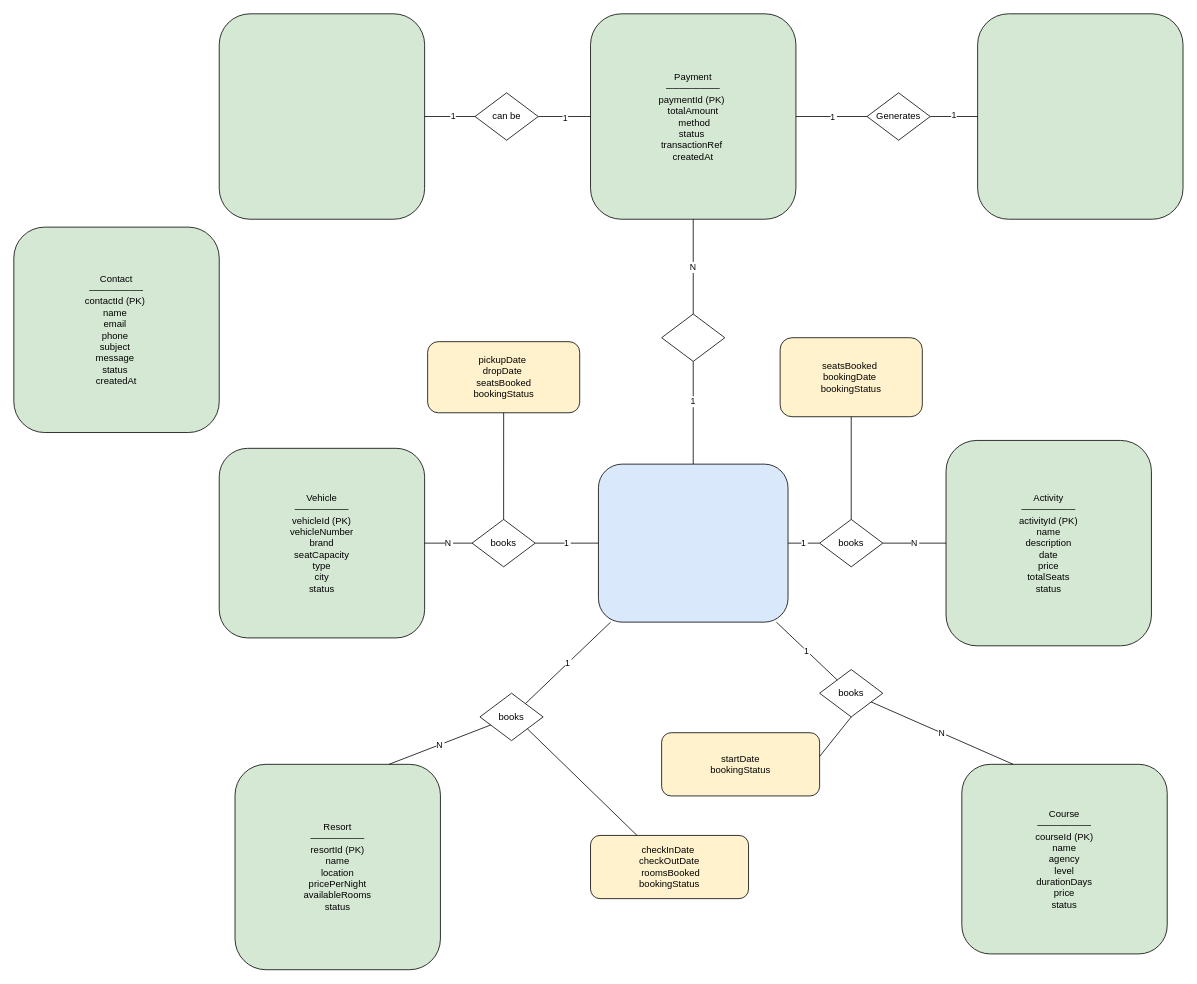
The diagram is 1197 pixels wide and 984 high, and some of its shapes have lost their labels. Here are the shapes that lost their labels. From the top down, the centre of each, then its label:
(x=321, y=116): Refund ──────── refundId (PK) amount reason status processedAt
(x=1080, y=116): Invoice ──────── invoiceNumber issuedDate totalAmount taxAmount status
(x=693, y=337): makes
(x=693, y=542): User ──────── userId (PK) name email phone role createdAt
